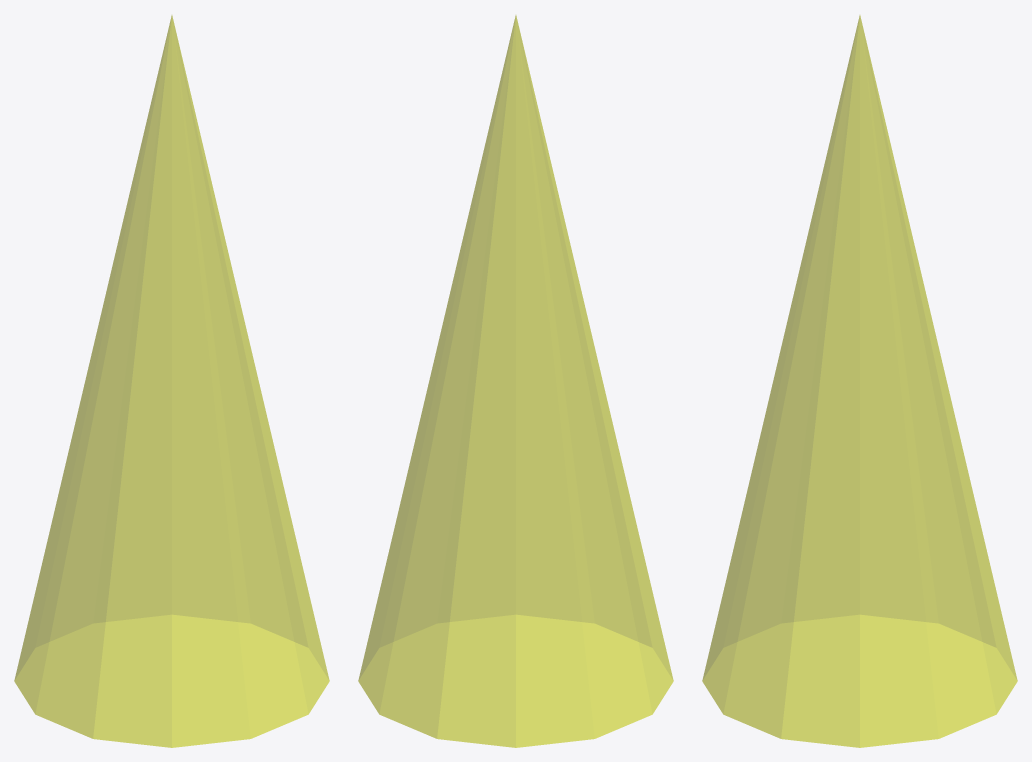
File: Spotlight.fbx
3 views of the same model, side by side, from view 1: azimuth 30°, elevation 25°; view 2: azimuth 150°, elevation 25°; view 3: azimuth 270°, elevation 25° (orthographic).
Visible parts, largest first — view 1: pCone1; view 2: pCone1; view 3: pCone1.
Boxes of the visible parts, x1=… form: pCone1: x1=14, y1=15, x2=329, y2=747; pCone1: x1=358, y1=15, x2=673, y2=747; pCone1: x1=702, y1=15, x2=1017, y2=747.
Size of the model in its own units: 3000 by 7000 by 3000.
